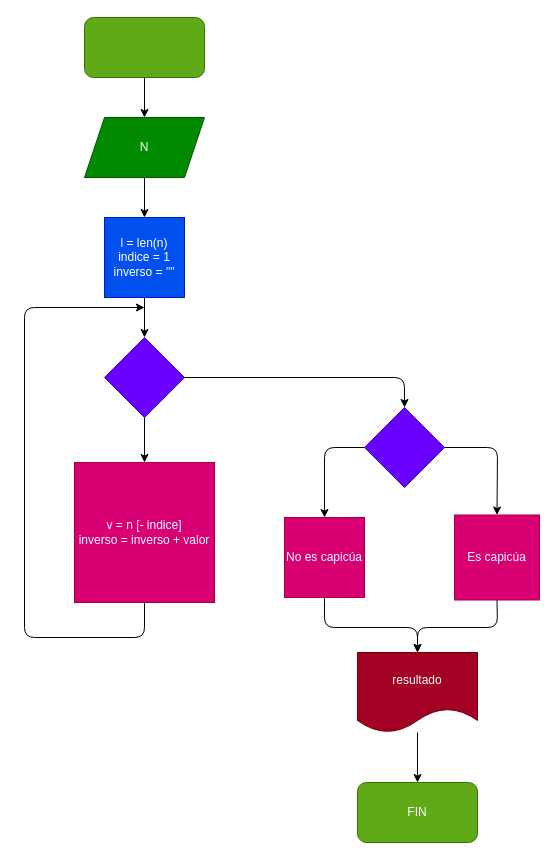
This 557x860 diagram has some shape labels left out. The shapes that lost their labels are listed below. From the top down, each one's centre as x and y in pixels, then its label:
point 144,47: INICIO
point 144,377: indice <= l
point 404,447: n == inverso
